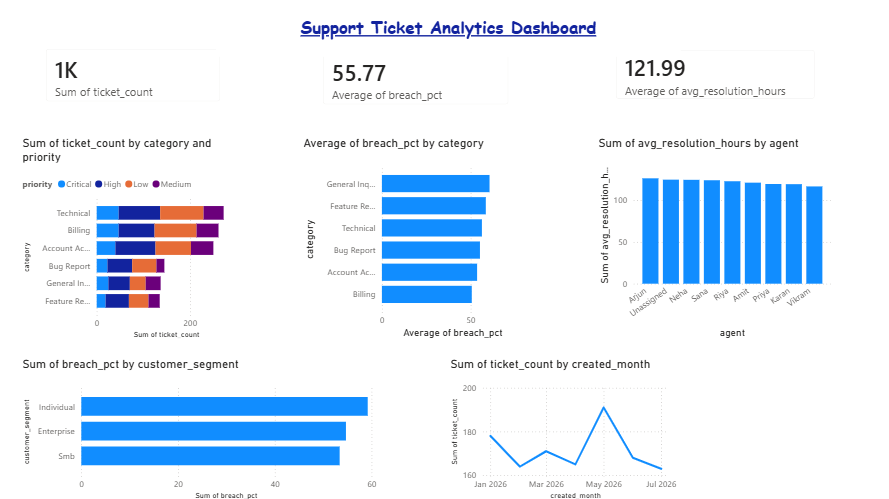

Layout of this report page (visuals, bound fields, positions):
{"tool":"powerbi","page":{"name":"Page 1","canvas":[1280,720],"ordinal":0},"visuals":[{"type":"barChart","fields":{"Category":["tickets_by_category_priority.category"],"Y":["Sum(tickets_by_category_priority.ticket_count)"],"Series":["tickets_by_category_priority.priority"]},"box":[28,196,326,294],"z":0},{"type":"clusteredBarChart","fields":{"Category":["sla_breach_by_segment.customer_segment"],"Y":["Sum(sla_breach_by_segment.breach_pct)"]},"box":[28.3,511.6,515.7,208.3],"z":1000},{"type":"clusteredBarChart","fields":{"Y":["Avg(breach_by_category.breach_pct)"],"Category":["breach_by_category.category"]},"box":[430,196,332,294],"z":2000},{"type":"lineChart","fields":{"Y":["Sum(monthly_trend.ticket_count)"],"Category":["monthly_trend.created_month"]},"box":[640,512,333,208],"z":3000},{"type":"clusteredColumnChart","fields":{"Category":["avg_resolution_by_agent.agent"],"Y":["Sum(avg_resolution_by_agent.avg_resolution_hours)"]},"box":[852,196,342,294],"z":4000},{"type":"cardVisual","fields":{"Data":["Sum(tickets_by_category_priority.ticket_count)"]},"box":[50,54,283.3,109.8],"z":4001},{"type":"cardVisual","fields":{"Data":["Avg(sla_breach_by_segment.breach_pct)"]},"box":[446,58,299.2,109.8],"z":4002},{"type":"cardVisual","fields":{"Data":["Avg(avg_resolution_by_agent.avg_resolution_hours)"]},"box":[864,56,318.7,104.5],"z":4003},{"type":"textbox","box":[973,512,221,208],"z":4004},{"type":"textbox","box":[310,18,664,64],"z":4005}]}

Visuals, with their boxes in screenshot pixels (x1, y1, x2, y2), scaled from the page's 1280x720 canvas onto the 889x499 screenshot:
barChart - tickets_by_category_priority.category x Sum(tickets_by_category_priority.ticket_count): bbox(19, 136, 246, 340)
clusteredBarChart - sla_breach_by_segment.customer_segment x Sum(sla_breach_by_segment.breach_pct): bbox(20, 355, 378, 498)
clusteredBarChart - Avg(breach_by_category.breach_pct) x breach_by_category.category: bbox(299, 136, 529, 340)
lineChart - Sum(monthly_trend.ticket_count) x monthly_trend.created_month: bbox(444, 355, 676, 498)
clusteredColumnChart - avg_resolution_by_agent.agent x Sum(avg_resolution_by_agent.avg_resolution_hours): bbox(592, 136, 829, 340)
cardVisual - Sum(tickets_by_category_priority.ticket_count): bbox(35, 37, 231, 114)
cardVisual - Avg(sla_breach_by_segment.breach_pct): bbox(310, 40, 518, 116)
cardVisual - Avg(avg_resolution_by_agent.avg_resolution_hours): bbox(600, 39, 821, 111)
textbox: bbox(676, 355, 829, 498)
textbox: bbox(215, 12, 676, 57)
